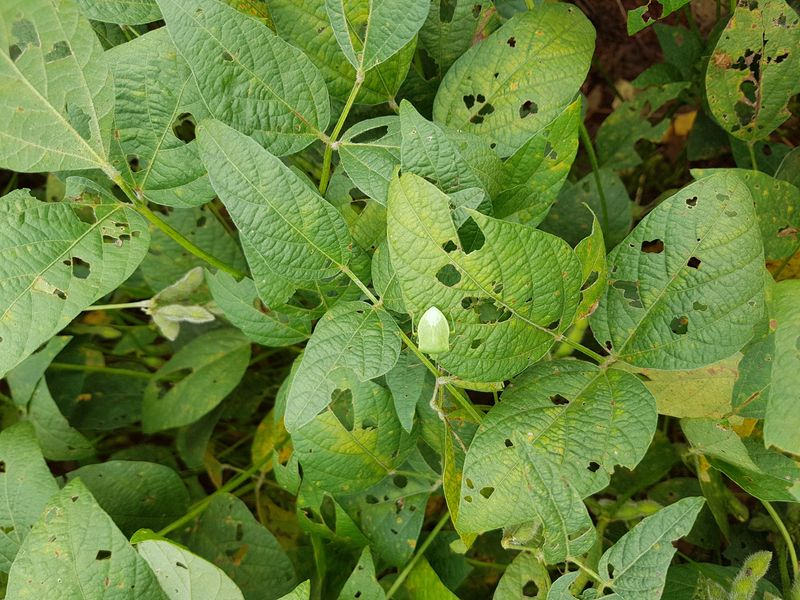Euschistus_heros_adulto: (706, 44, 741, 75)
Nezara_viridula_adulto: (398, 297, 463, 373)
